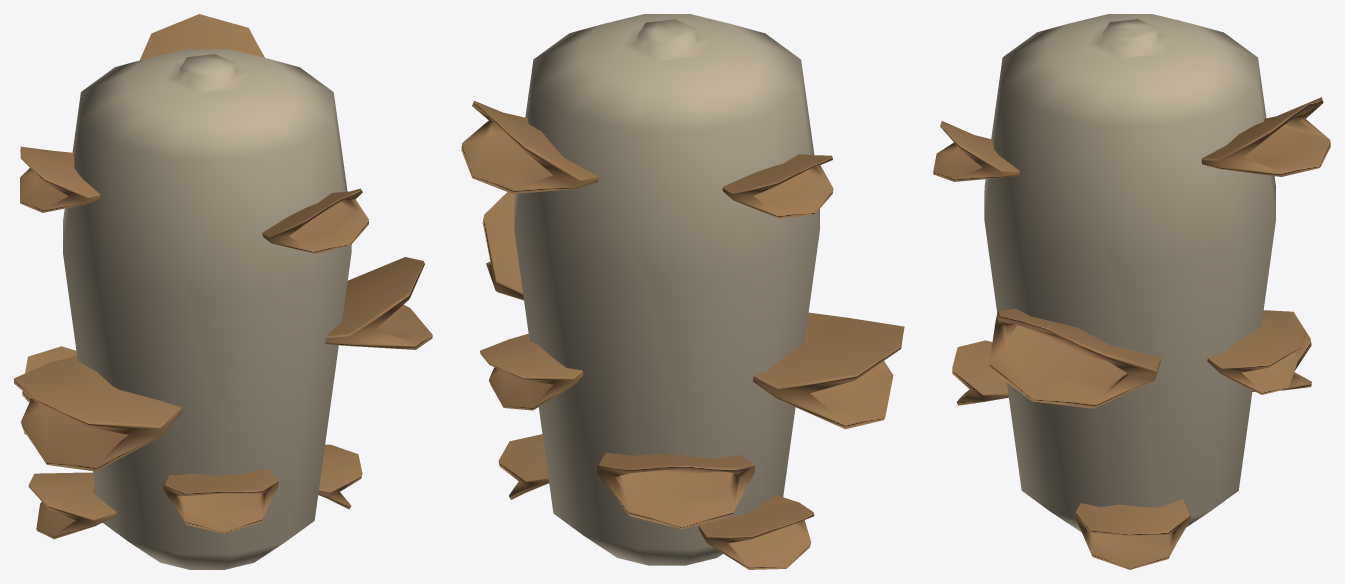
Rendered from MODEL_Bankcone_G4_1.fbx.
The picture shows the model from 3 angles, left to right: view 1: azimuth 30°, elevation 25°; view 2: azimuth 150°, elevation 25°; view 3: azimuth 270°, elevation 25°; orthographic projection. The views are drawn at different scales.
Visible parts, largest first — view 1: Geo_bankcone_1, Geo_seedpodopen_2, Geo_seedpodopen_1, Geo_seedpodopen_6, Geo_seedpodopen_7, Geo_seedpodopen_10, Geo_seedpodopen_8, Geo_seedpodopen_3, Geo_seedpodopen_9, Geo_seedpodopen_4; view 2: Geo_bankcone_1, Geo_seedpodopen_2, Geo_seedpodopen_4, Geo_seedpodopen_3, Geo_seedpodopen_10, Geo_seedpodopen_5, Geo_seedpodopen_8, Geo_seedpodopen_1, Geo_seedpodopen_9; view 3: Geo_bankcone_1, Geo_seedpodopen_1, Geo_seedpodopen_9, Geo_seedpodopen_3, Geo_seedpodopen_5, Geo_seedpodopen_7, Geo_seedpodopen_6, Geo_seedpodopen_4.
Part boxes in pixels (box(x1,y1,x2,y2)): Geo_bankcone_1: box(63, 49, 351, 569); Geo_seedpodopen_2: box(14, 356, 182, 471); Geo_seedpodopen_1: box(325, 257, 432, 349); Geo_seedpodopen_6: box(163, 468, 278, 533); Geo_seedpodopen_7: box(262, 188, 368, 253); Geo_seedpodopen_10: box(28, 472, 116, 539); Geo_seedpodopen_8: box(20, 146, 100, 212); Geo_seedpodopen_3: box(140, 14, 264, 60); Geo_seedpodopen_9: box(318, 444, 362, 509); Geo_seedpodopen_4: box(22, 346, 76, 434); Geo_bankcone_1: box(514, 14, 819, 565); Geo_seedpodopen_2: box(752, 312, 904, 429); Geo_seedpodopen_4: box(597, 453, 754, 529); Geo_seedpodopen_3: box(461, 101, 598, 193); Geo_seedpodopen_10: box(698, 495, 814, 569); Geo_seedpodopen_5: box(480, 333, 583, 410); Geo_seedpodopen_8: box(722, 154, 833, 218); Geo_seedpodopen_1: box(482, 192, 523, 300); Geo_seedpodopen_9: box(498, 434, 548, 499); Geo_bankcone_1: box(984, 14, 1275, 531); Geo_seedpodopen_1: box(989, 308, 1161, 408); Geo_seedpodopen_9: box(1074, 499, 1190, 569); Geo_seedpodopen_3: box(1201, 97, 1330, 176); Geo_seedpodopen_5: box(1207, 318, 1306, 394); Geo_seedpodopen_7: box(933, 121, 1019, 181); Geo_seedpodopen_6: box(952, 340, 1008, 405); Geo_seedpodopen_4: box(1252, 310, 1311, 391).
Bounding box in the file's own units: 4.98 × 6.02 × 4.42.
